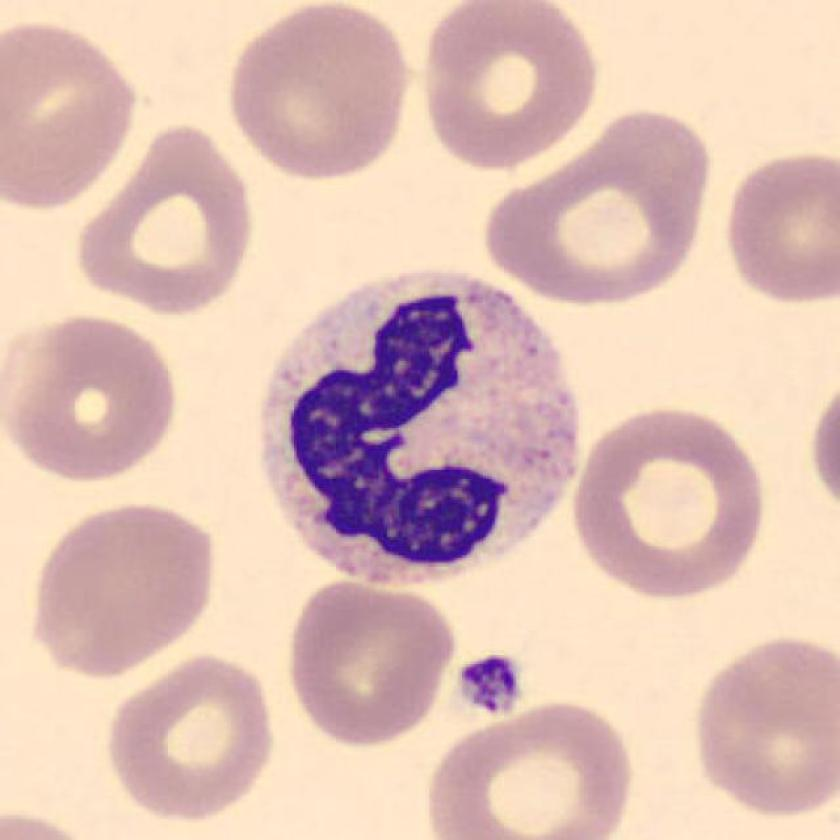neutrophil: (262, 272, 580, 587)
